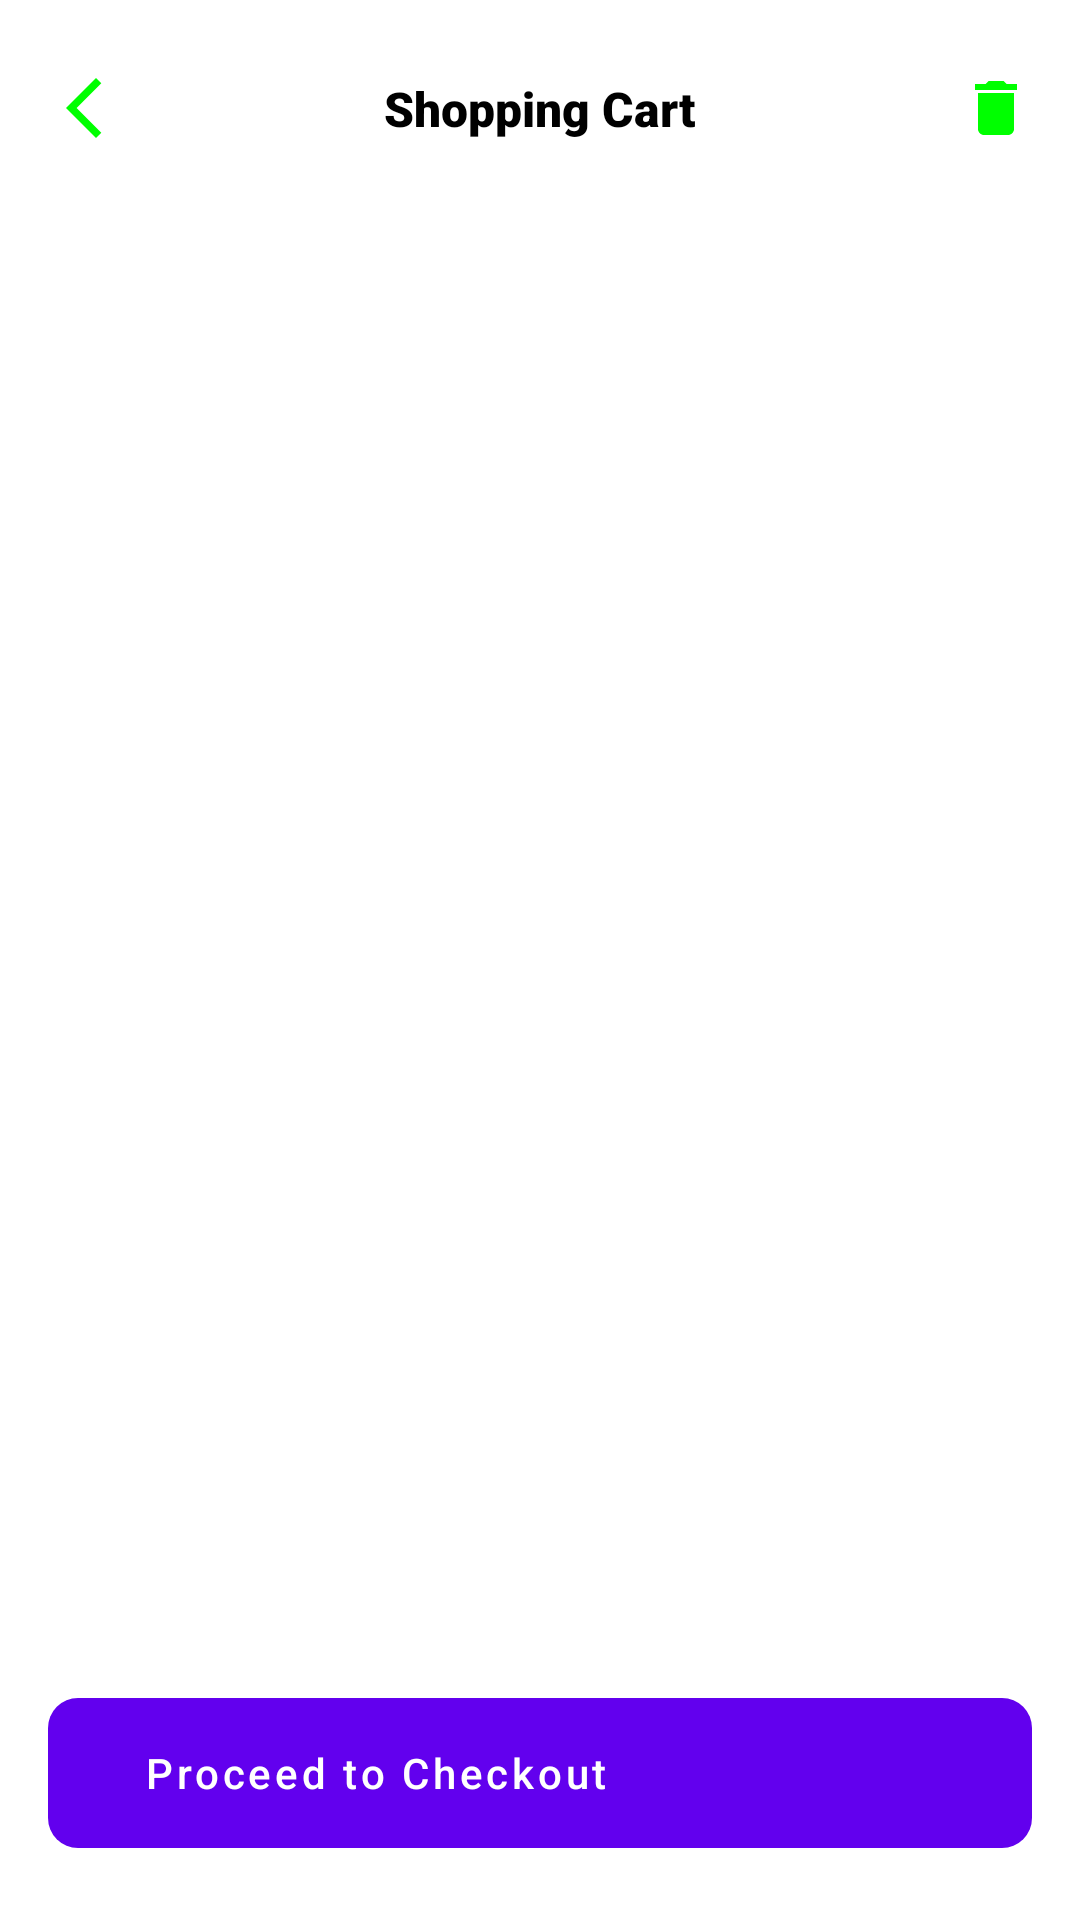

Icon bounding boxes for this 1080x1920 phone screenshot, format (x1, y1, x2, y2):
back arrow: (66, 78, 101, 138)
bin: (975, 81, 1017, 135)
